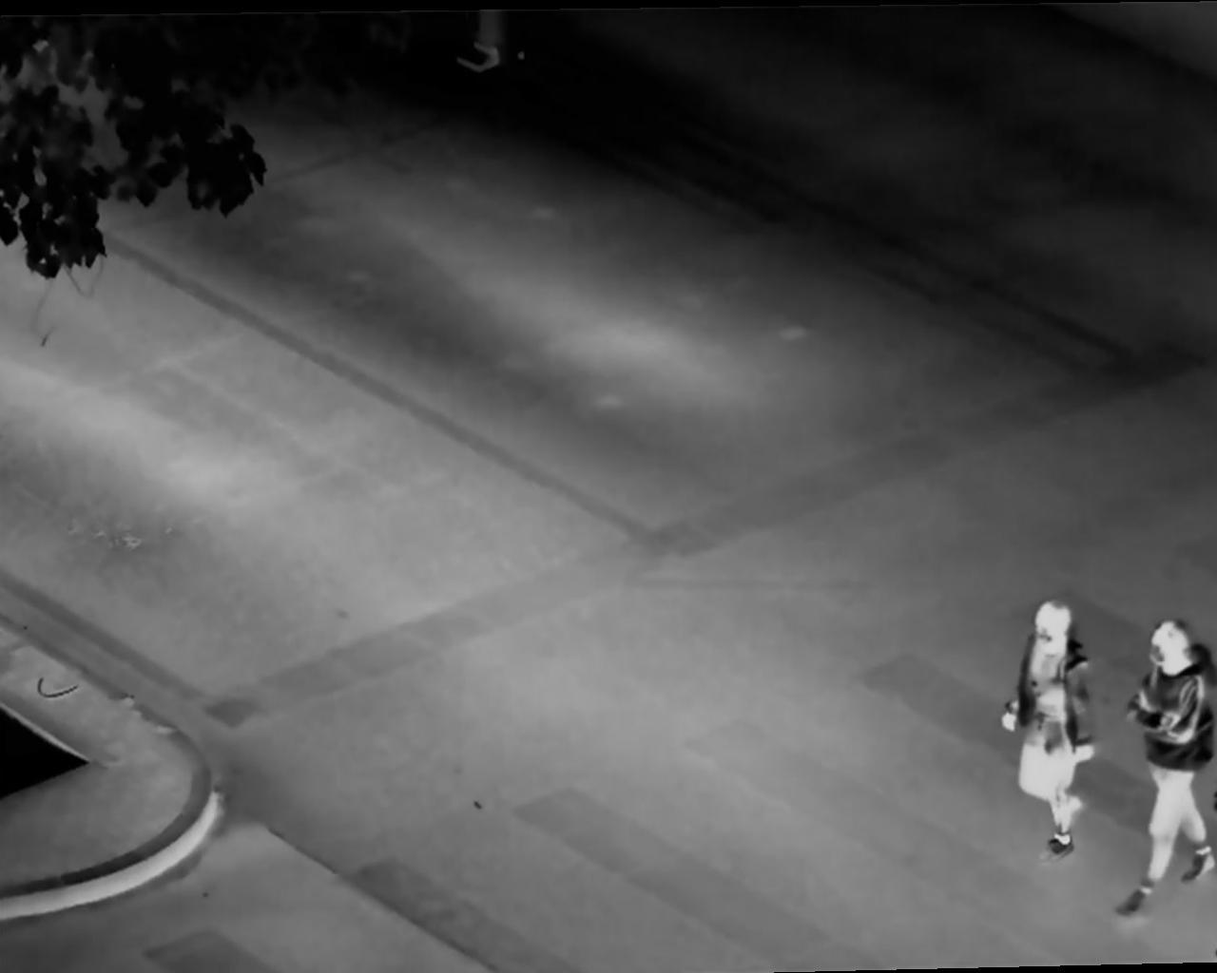person: (1126, 614, 1217, 921), (1007, 593, 1105, 856)
